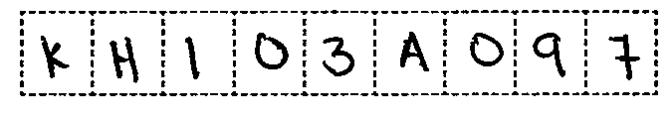0: (248, 29, 297, 74), (464, 29, 509, 72)
1: (175, 30, 211, 86)
3: (315, 32, 358, 80)
7: (601, 29, 645, 84)
9: (526, 30, 576, 83)
A: (394, 26, 434, 78)
H: (102, 32, 147, 87)
K: (34, 31, 75, 82)
